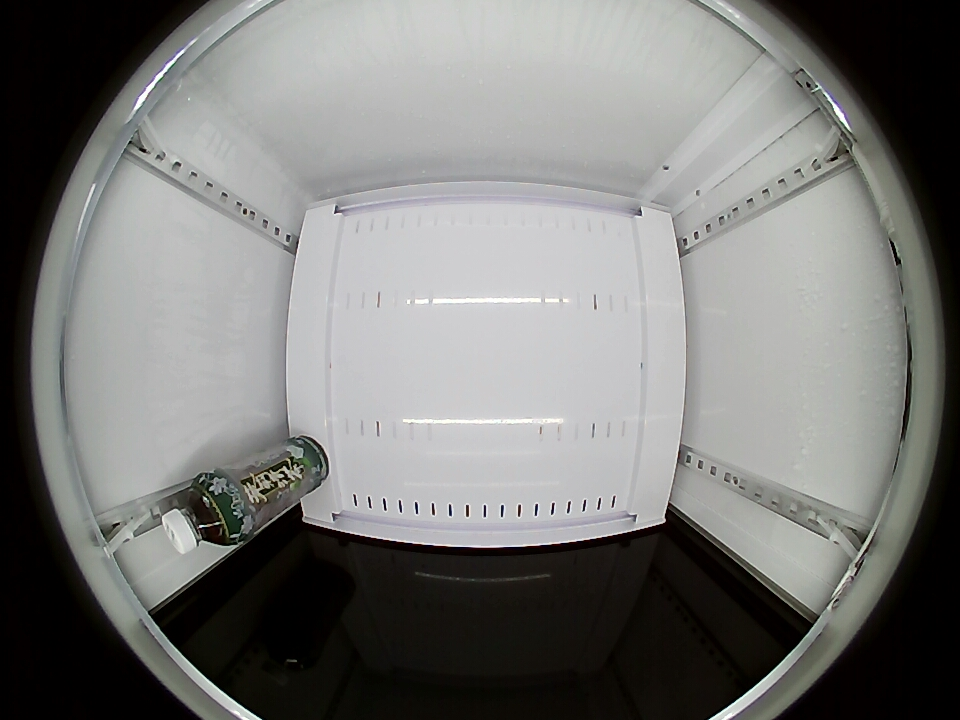moliqingcha: (160, 475, 244, 553)
